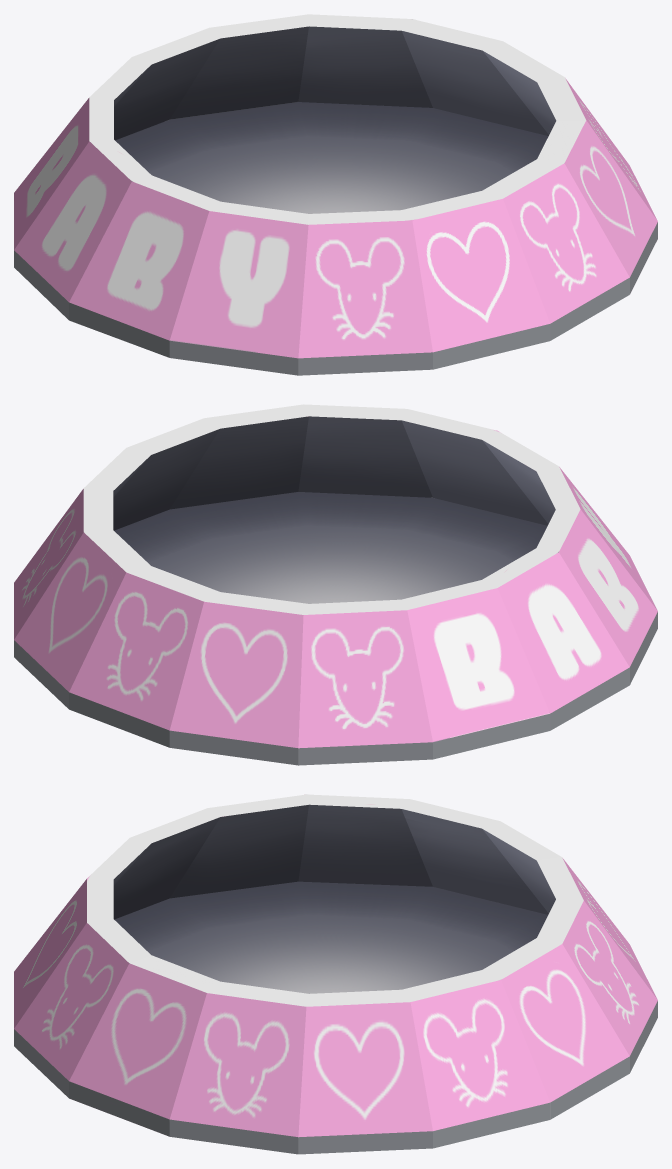
File: foodbowl.glb
3 views of the same model, one above another, from view 1: azimuth 30°, elevation 25°; view 2: azimuth 150°, elevation 25°; view 3: azimuth 270°, elevation 25° (orthographic).
Visible parts, largest first — view 1: bowl; view 2: bowl; view 3: bowl.
Boxes of the visible parts, box(x1,y1,x2,y2) form: bowl: box(14, 14, 657, 375); bowl: box(14, 404, 657, 765); bowl: box(14, 794, 657, 1154).
Bounding box in the file's own units: 0.7027 × 0.1435 × 0.6989.
Materials: 1 (1 with a texture image).
